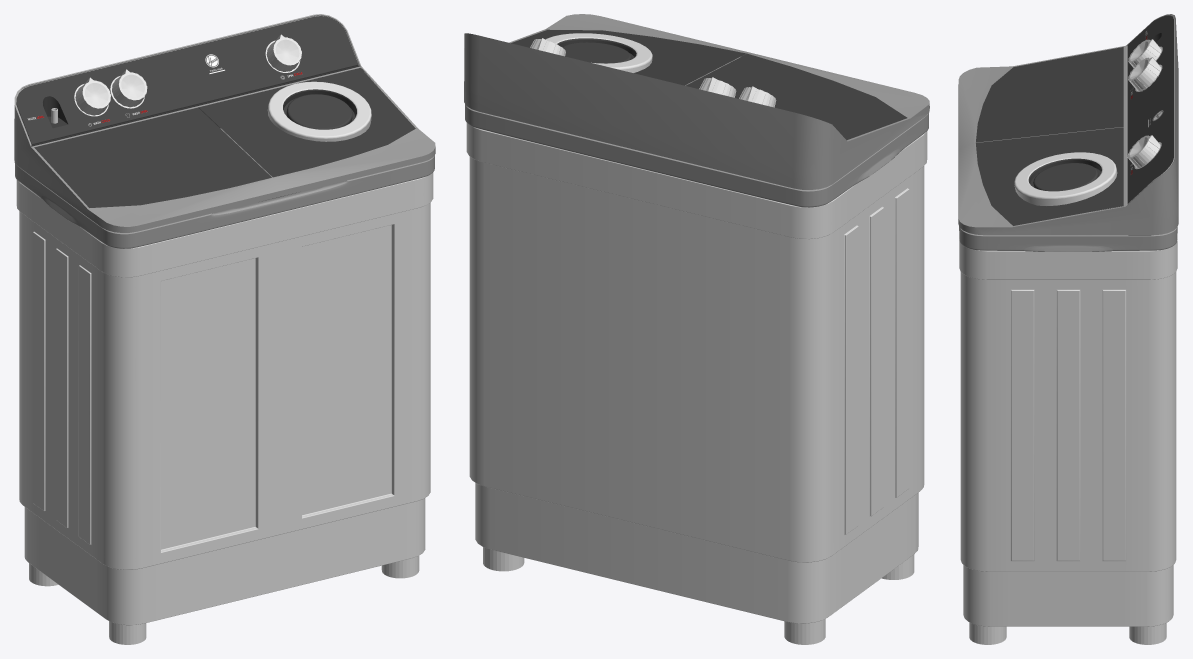
Rendered from HWM2.glb.
3 views of the same model, side by side, from view 1: azimuth 30°, elevation 25°; view 2: azimuth 150°, elevation 25°; view 3: azimuth 270°, elevation 25° (orthographic). The views are drawn at different scales.
Parts seen in each view (by area): view 1: Cube, Cube.004, Cube.003, Cube.002, Cube.005, Cube.001, Cylinder.004, Cylinder.007, Cylinder.006, Cylinder.005, Cylinder.002, Cylinder; view 2: Cube, Cube.002, Cube.001, Cube.003, Cube.005, Cylinder.004, Cylinder.003, Cylinder.001; view 3: Cube, Cube.002, Cube.003, Cube.005, Cube.004, Cylinder.004, Cube.001, Cylinder.006, Cylinder.005, Cylinder, Cylinder.001, Cylinder.007.
Part boxes in pixels (<box>): Cube: <box>16,172,433,625</box>; Cube.004: <box>17,16,358,146</box>; Cube.003: <box>34,107,271,207</box>; Cube.002: <box>14,14,435,232</box>; Cube.005: <box>199,67,415,177</box>; Cube.001: <box>15,155,434,248</box>; Cylinder.004: <box>267,81,371,141</box>; Cylinder.007: <box>75,77,110,115</box>; Cylinder.006: <box>112,69,147,107</box>; Cylinder.005: <box>266,34,301,71</box>; Cylinder.002: <box>109,621,146,644</box>; Cylinder: <box>381,556,419,578</box>; Cube: <box>466,123,927,623</box>; Cube.002: <box>464,14,929,189</box>; Cube.001: <box>465,104,928,207</box>; Cube.003: <box>685,53,907,140</box>; Cube.005: <box>511,29,746,85</box>; Cylinder.004: <box>545,33,652,72</box>; Cylinder.003: <box>784,619,825,644</box>; Cylinder.001: <box>483,547,524,571</box>; Cube: <box>959,233,1177,626</box>; Cube.002: <box>958,14,1178,235</box>; Cube.003: <box>976,47,1123,142</box>; Cube.005: <box>976,127,1123,225</box>; Cube.004: <box>1127,15,1173,235</box>; Cylinder.004: <box>1014,152,1117,205</box>; Cube.001: <box>959,226,1177,251</box>; Cylinder.006: <box>1128,57,1161,91</box>; Cylinder.005: <box>1127,135,1160,167</box>; Cylinder: <box>969,622,1006,644</box>; Cylinder.001: <box>1129,623,1166,644</box>; Cylinder.007: <box>1128,39,1161,67</box>.
Bounding box in the file's own units: 0.8858 × 1.25 × 0.5098.
Materials: 17 (10 with a texture image).
